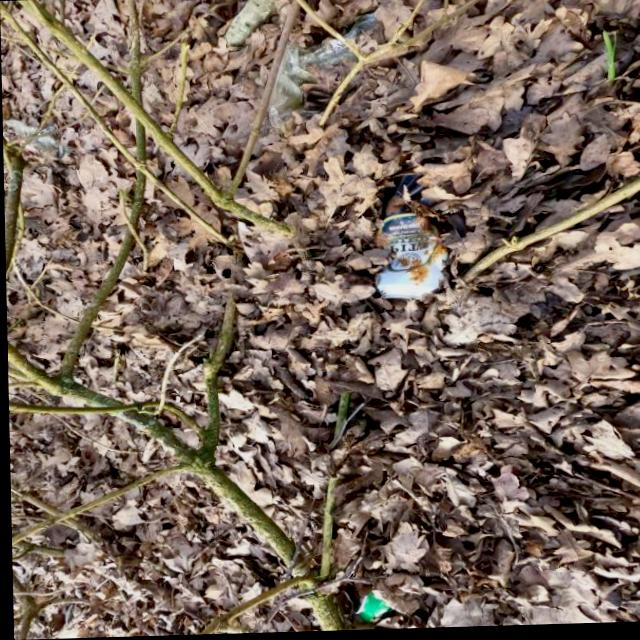Can-Metal: (370, 169, 452, 302)
